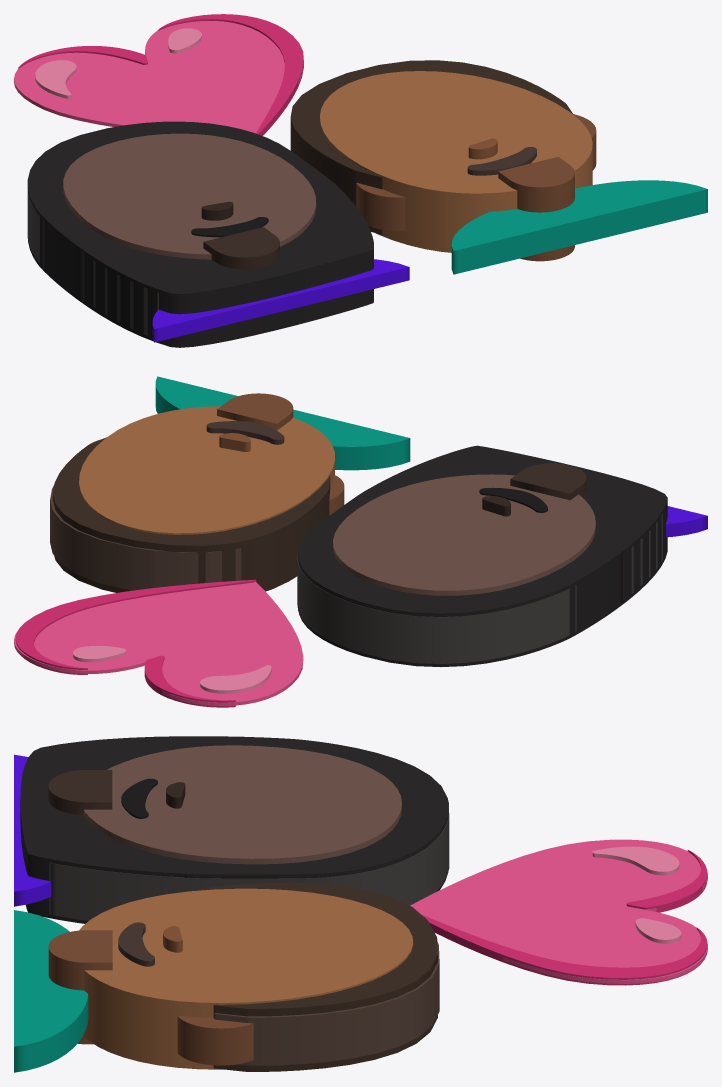
Rendered from emoji_u1f469_1f3ff_200d_2764_200d_1f468_1f3fe.glb.
The picture shows the model from 3 angles, top to bottom: view 1: azimuth 30°, elevation 25°; view 2: azimuth 150°, elevation 25°; view 3: azimuth 270°, elevation 25°; orthographic projection. The views are drawn at different scales.
Visible parts, largest first — view 1: emoji_u1f469_1f3ff_200d_2764_200d_1f468_1f3fe; view 2: emoji_u1f469_1f3ff_200d_2764_200d_1f468_1f3fe; view 3: emoji_u1f469_1f3ff_200d_2764_200d_1f468_1f3fe.
Boxes of the visible parts, x1=… form: emoji_u1f469_1f3ff_200d_2764_200d_1f468_1f3fe: x1=14, y1=14, x2=707, y2=347; emoji_u1f469_1f3ff_200d_2764_200d_1f468_1f3fe: x1=14, y1=376, x2=707, y2=707; emoji_u1f469_1f3ff_200d_2764_200d_1f468_1f3fe: x1=14, y1=736, x2=707, y2=1072.
Size of the model in its own units: 0.0345 by 0.005 by 0.0339.
